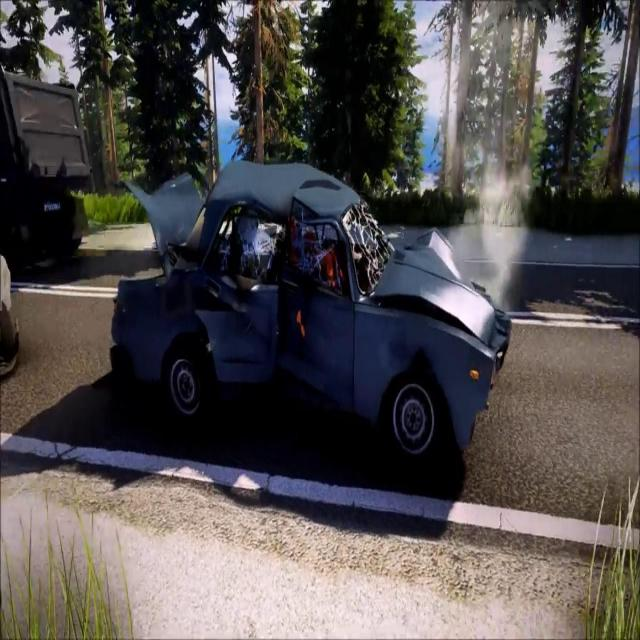accident: (106, 151, 514, 464)
